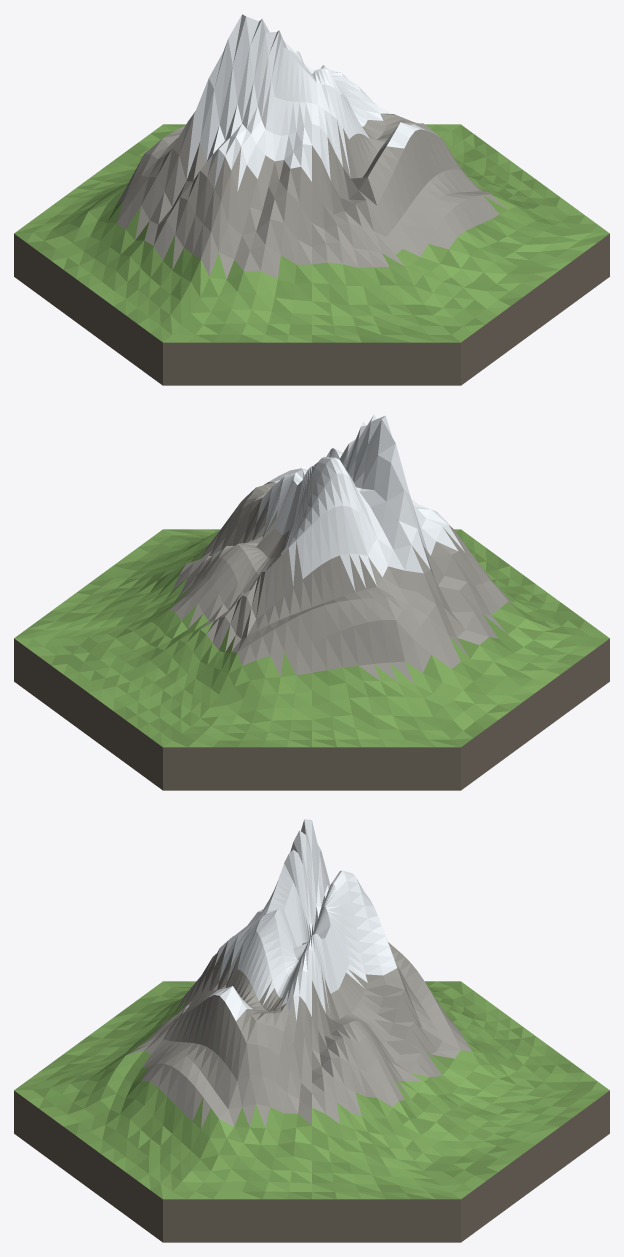
Rendered from TERRAIN_GRASS_MOUNTAIN_v02.fbx.
The picture shows the model from 3 angles, top to bottom: view 1: azimuth 30°, elevation 25°; view 2: azimuth 150°, elevation 25°; view 3: azimuth 270°, elevation 25°; orthographic projection.
Parts seen in each view (by area): view 1: TERRAIN_GRASS_MOUNTAIN_v02; view 2: TERRAIN_GRASS_MOUNTAIN_v02; view 3: TERRAIN_GRASS_MOUNTAIN_v02.
Part boxes in pixels (box(x1,y1,x2,y2)): TERRAIN_GRASS_MOUNTAIN_v02: box(14, 14, 609, 385); TERRAIN_GRASS_MOUNTAIN_v02: box(14, 415, 609, 790); TERRAIN_GRASS_MOUNTAIN_v02: box(14, 819, 609, 1242).
Size of the model in its own units: 173 by 104 by 200.
